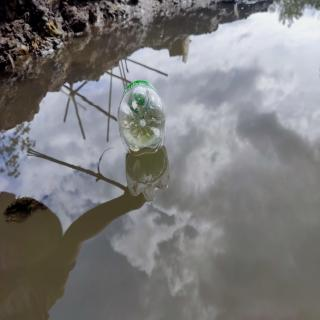bottle: (115, 78, 167, 159)
